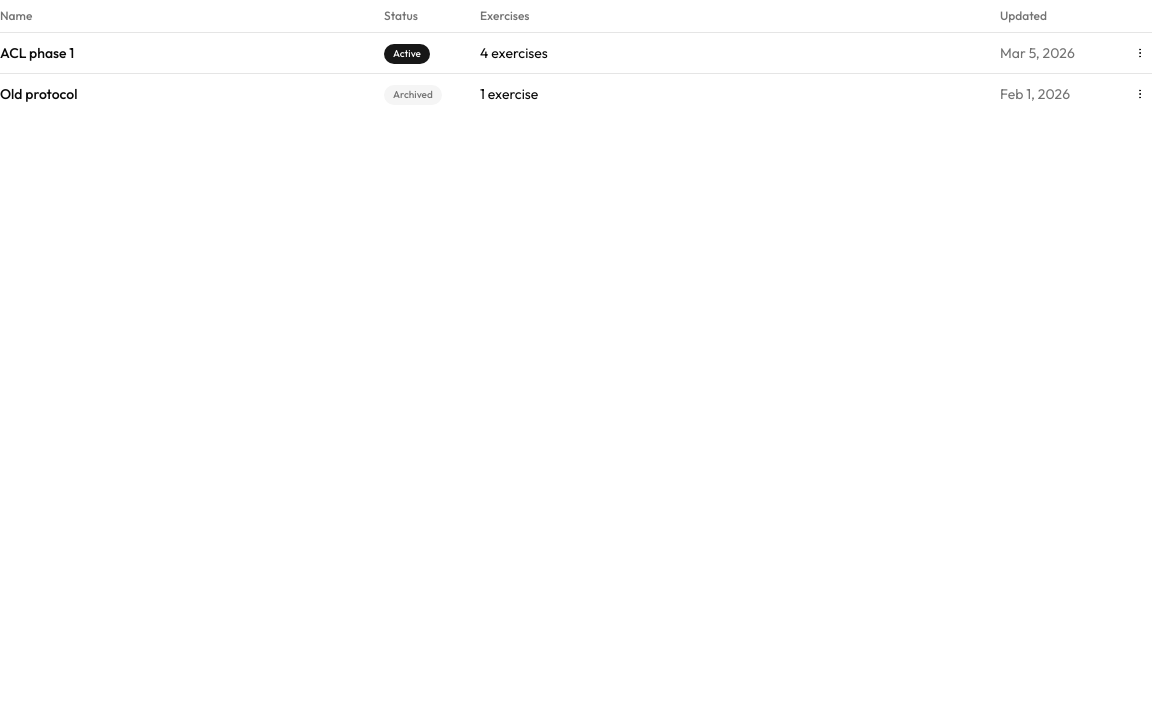
TemplateList › offers Assign when there are customers, and opens the dialog for that template
Click the button named "Actions for ACL phase 1": point(1140, 53) [1128,41,1151,65]
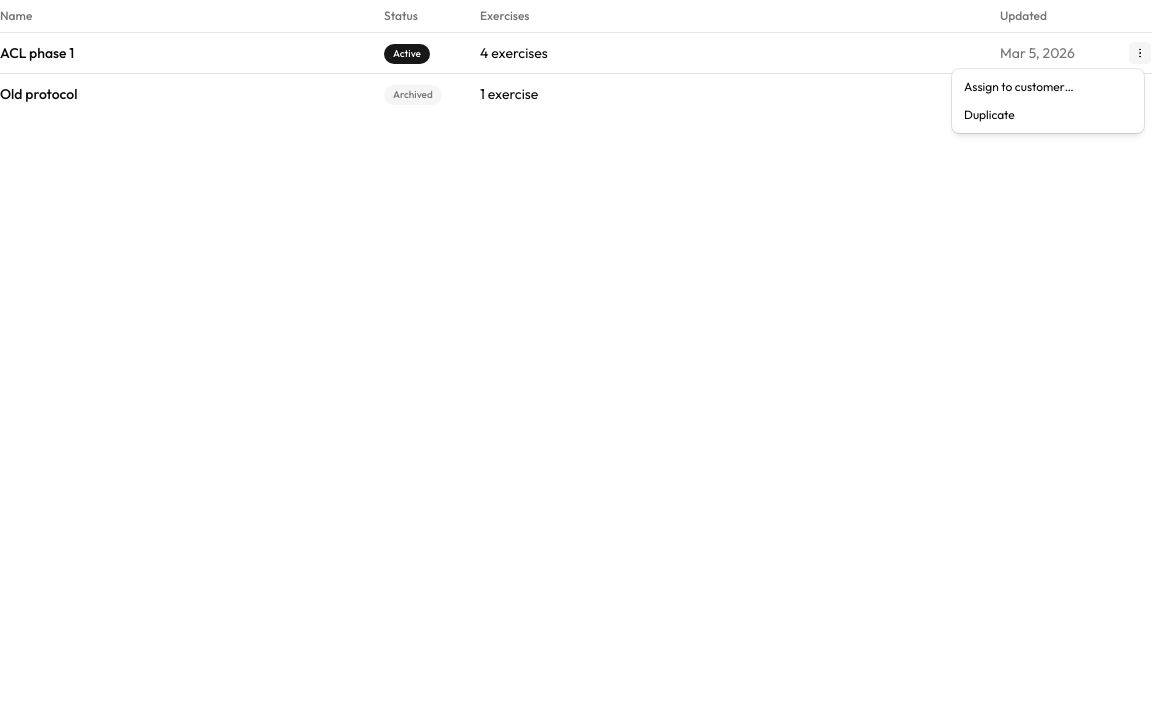
Click the menu item "Assign to customer…": point(1019, 87) [964,79,1074,94]
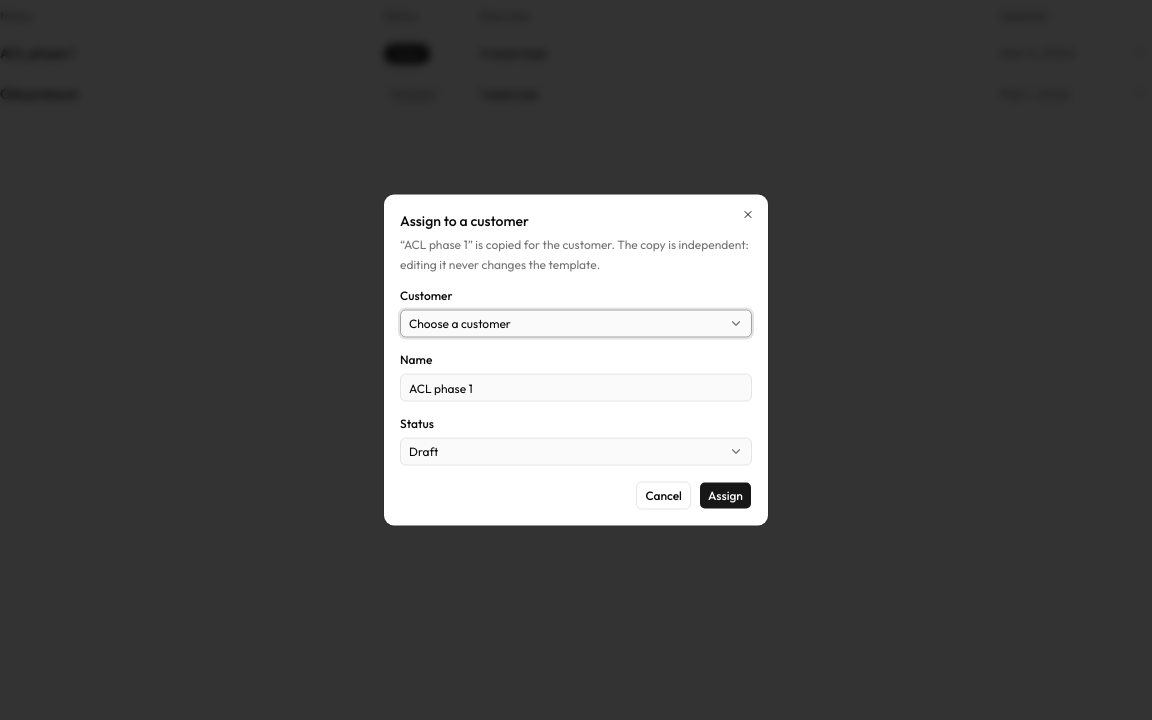
Check: the dialog "Assign to a customer" is shown, box [384,194,768,526]
Check: the field labelled "Name" holds "ACL phase 1", box [400,374,752,402]
